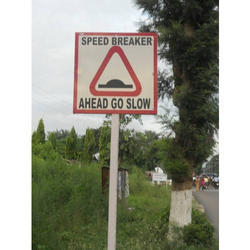speed-breaker: (89, 45, 141, 97)
